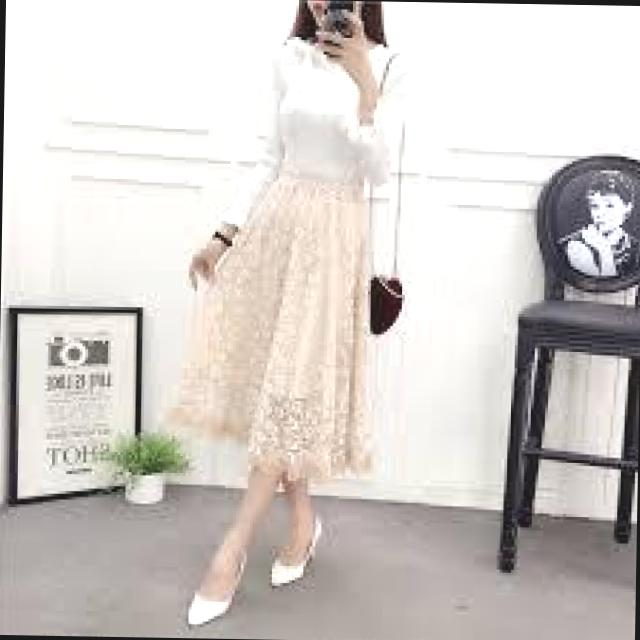skirt: (146, 166, 394, 483)
sweater: (220, 26, 428, 232)
